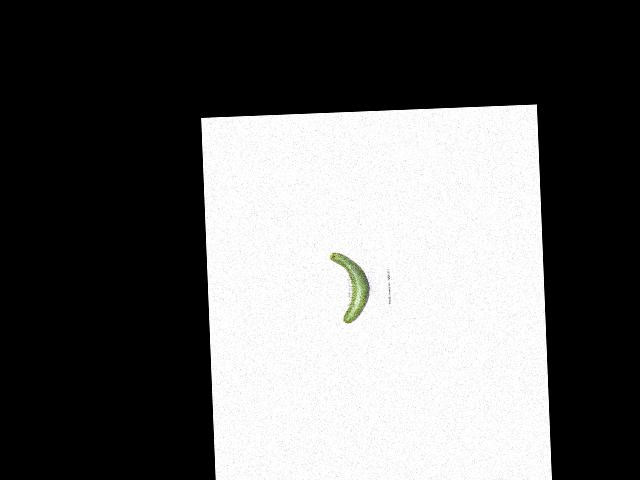cucumber: (329, 251, 370, 323)
